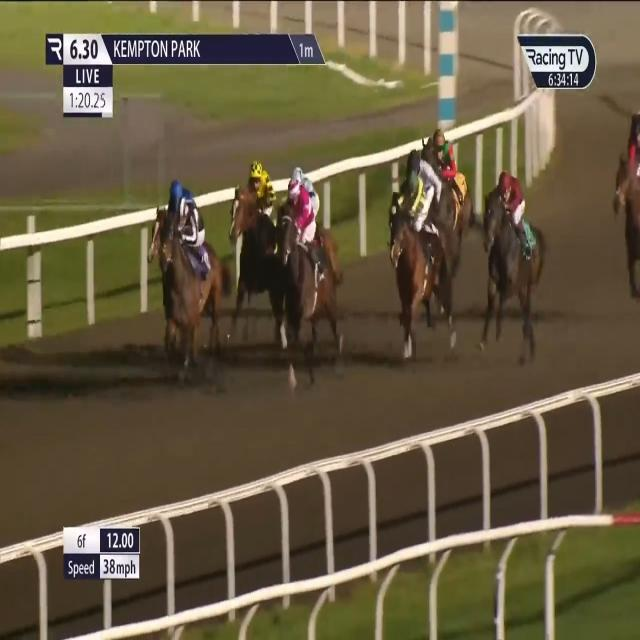horses-racing: (273, 184, 352, 389), (384, 169, 458, 358), (483, 167, 546, 366), (160, 197, 230, 368), (224, 160, 288, 312), (286, 158, 342, 272), (429, 124, 478, 244), (411, 145, 462, 252), (613, 110, 640, 308), (145, 172, 197, 255)
